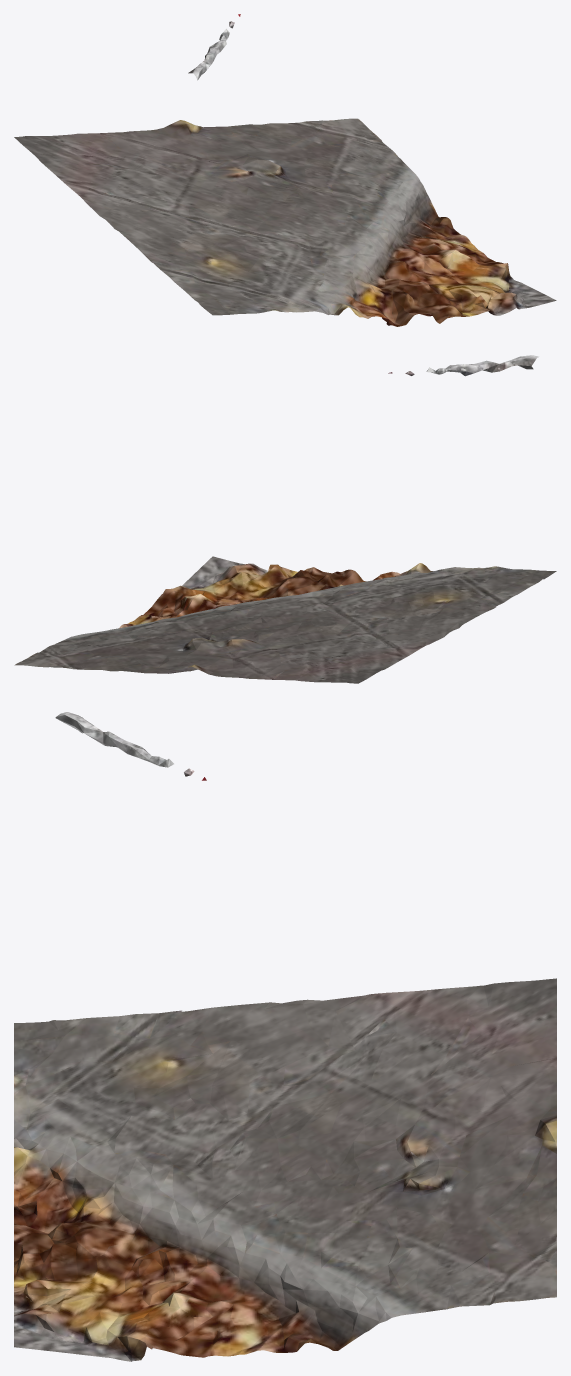
3 renders of one model, top to bottom at view 1: azimuth 30°, elevation 25°; view 2: azimuth 150°, elevation 25°; view 3: azimuth 270°, elevation 25°, orthographic. The views are drawn at different scales.
Bounding box in the file's own units: 0.8374 × 0.7168 × 0.8373.
Materials: 3 (3 with a texture image).
